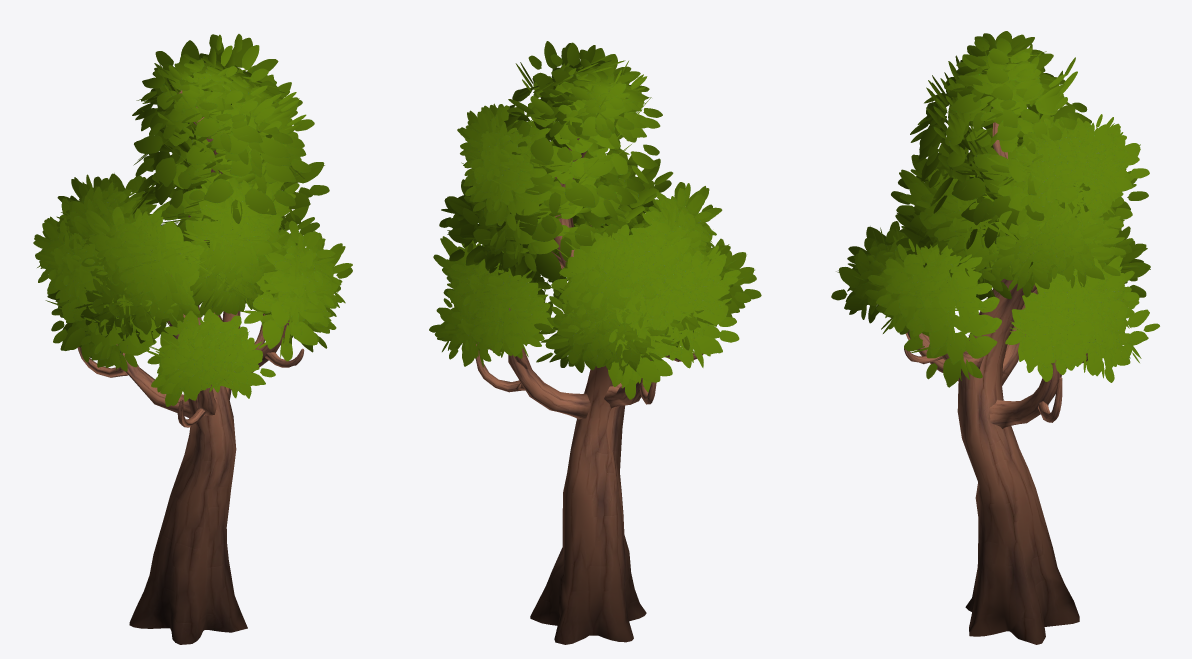
File: tree-round-2.glb
The picture shows the model from 3 angles, left to right: view 1: azimuth 30°, elevation 25°; view 2: azimuth 150°, elevation 25°; view 3: azimuth 270°, elevation 25°; orthographic projection. The views are drawn at different scales.
Parts seen in each view (by area): view 1: CommonTree_2; view 2: CommonTree_2; view 3: CommonTree_2.
Part boxes in pixels (x1=…): CommonTree_2: x1=33, y1=34, x2=352, y2=644; CommonTree_2: x1=429, y1=41, x2=761, y2=644; CommonTree_2: x1=831, y1=31, x2=1159, y2=644.
Bounding box in the file's own units: 4.46 × 7.64 × 4.28.
Materials: 2 (2 with a texture image).
